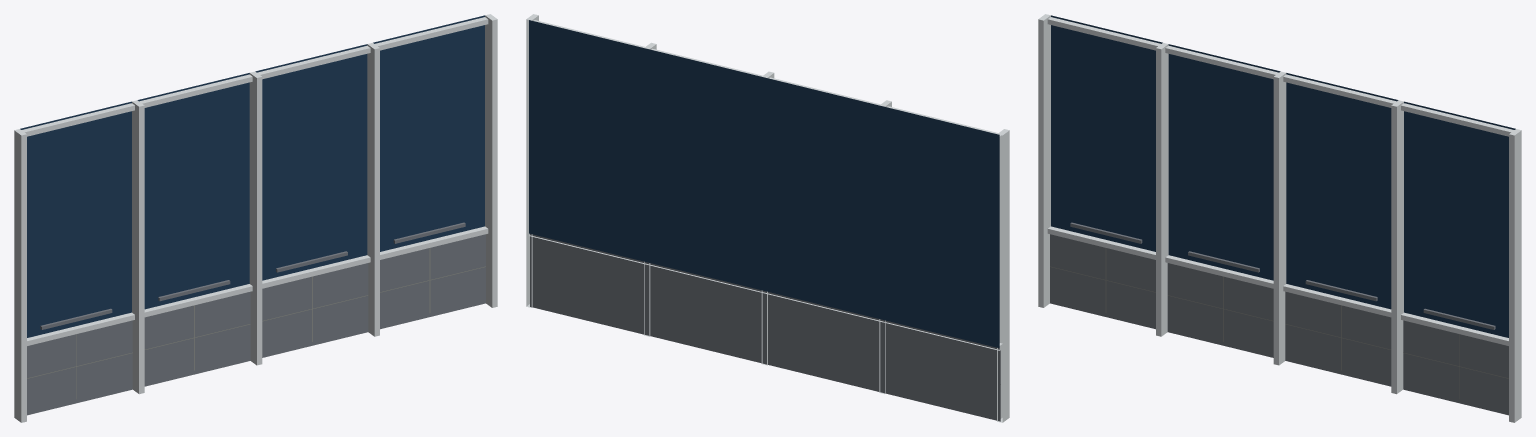
The model's file is mid-w1_close.fbx.
The picture shows the model from 3 angles, left to right: view 1: azimuth 30°, elevation 25°; view 2: azimuth 150°, elevation 25°; view 3: azimuth 330°, elevation 25°; orthographic projection.
Parts seen in each view (by area): view 1: a2010/0/mid-w1_close; view 2: a2010/0/mid-w1_close; view 3: a2010/0/mid-w1_close.
Part boxes in pixels (x1,y1,x2,y2): a2010/0/mid-w1_close: (14, 14, 497, 422); a2010/0/mid-w1_close: (526, 14, 1009, 422); a2010/0/mid-w1_close: (1038, 14, 1521, 422).
Size of the model in its own units: 6.07 by 3.5 by 0.16.
